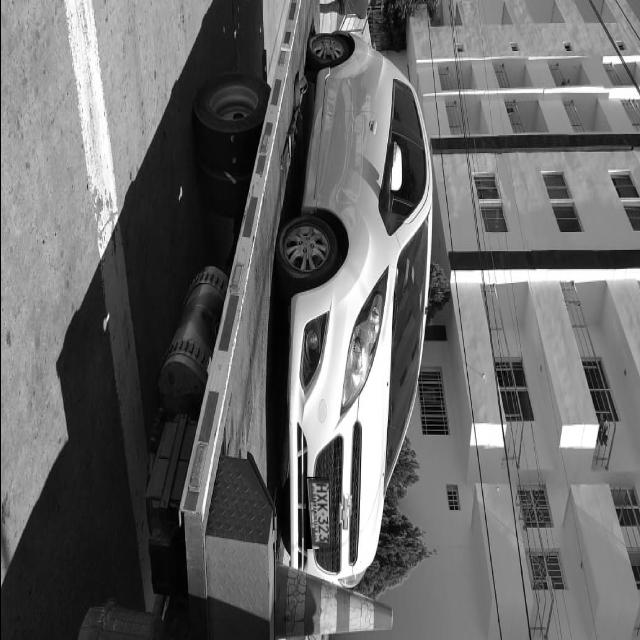plate: (308, 478, 328, 549)
